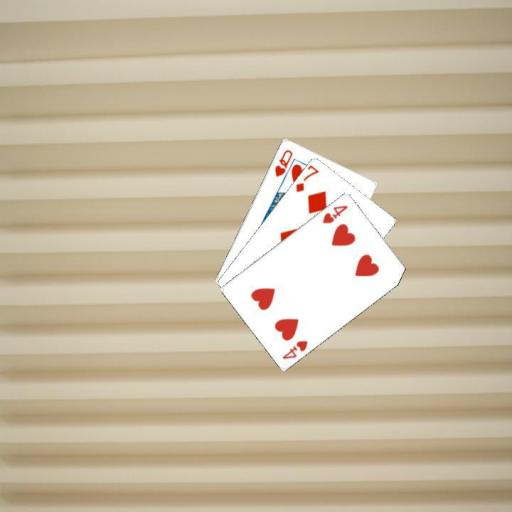4H: (319, 201, 349, 225), (280, 337, 310, 361)
7D: (292, 162, 321, 194)
QH: (272, 146, 294, 178)
